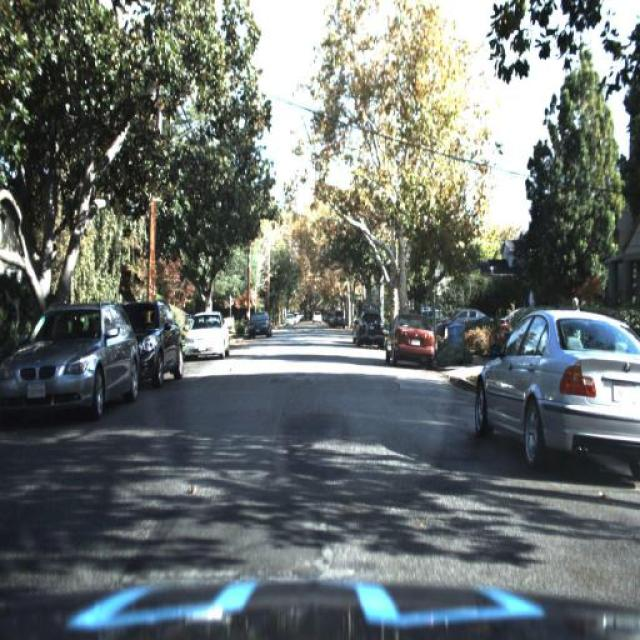car: (469, 297, 639, 475), (0, 298, 138, 411), (121, 289, 184, 386), (387, 305, 445, 361), (444, 294, 498, 334), (186, 308, 227, 354), (358, 304, 392, 345), (246, 310, 273, 340), (329, 307, 348, 333)
